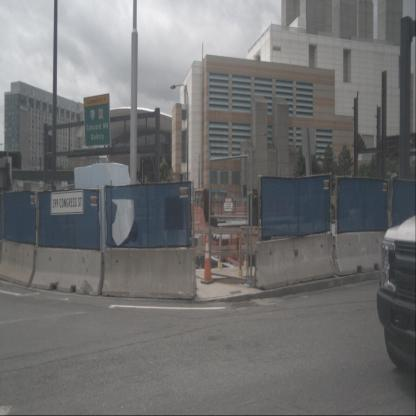barrier: (102, 245, 198, 300), (254, 230, 342, 290), (31, 245, 104, 296), (332, 226, 401, 276), (0, 239, 37, 287)
cone: (200, 235, 216, 285)
